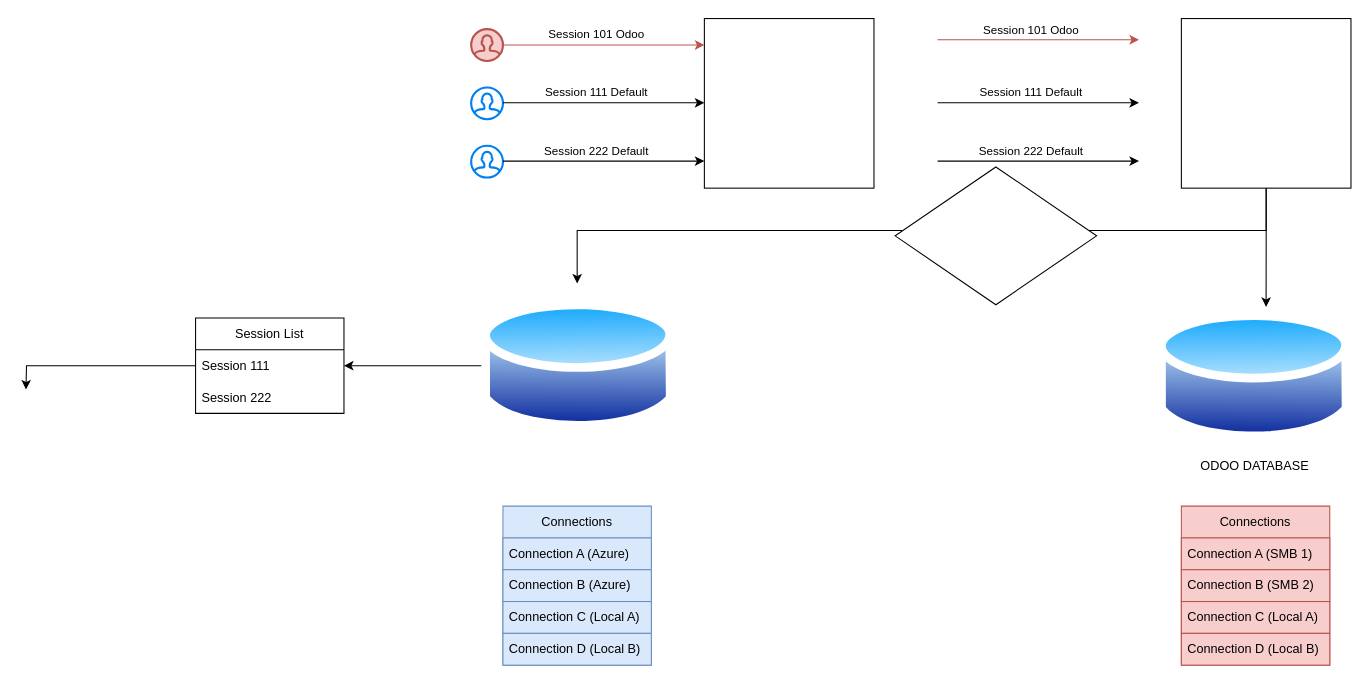
Image size: 1370x684. Some labels were removed from this diagram. Each missing label, with the centre of its shape:
BACK END: the point at 1265,102
Check session Conn string: the point at 995,235
DEFAULT DATABASE: the point at 578,365
FRONT END: the point at 788,102
